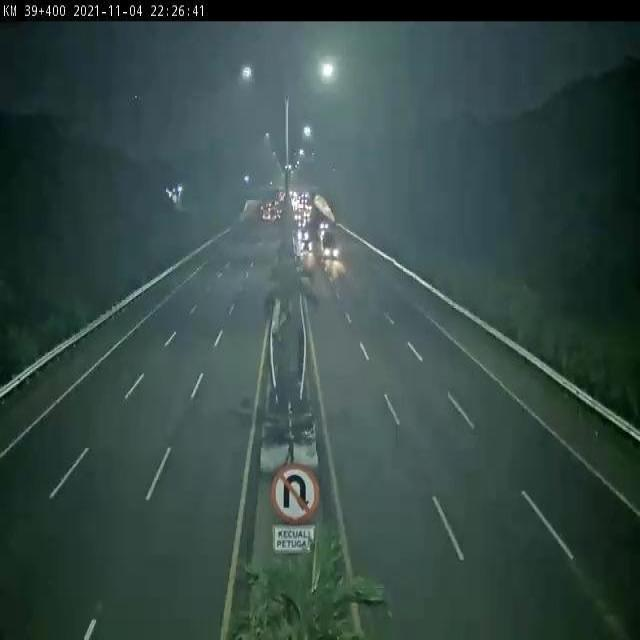Car: (300, 240, 313, 253), (298, 229, 309, 239)
Truck: (321, 229, 342, 263)
